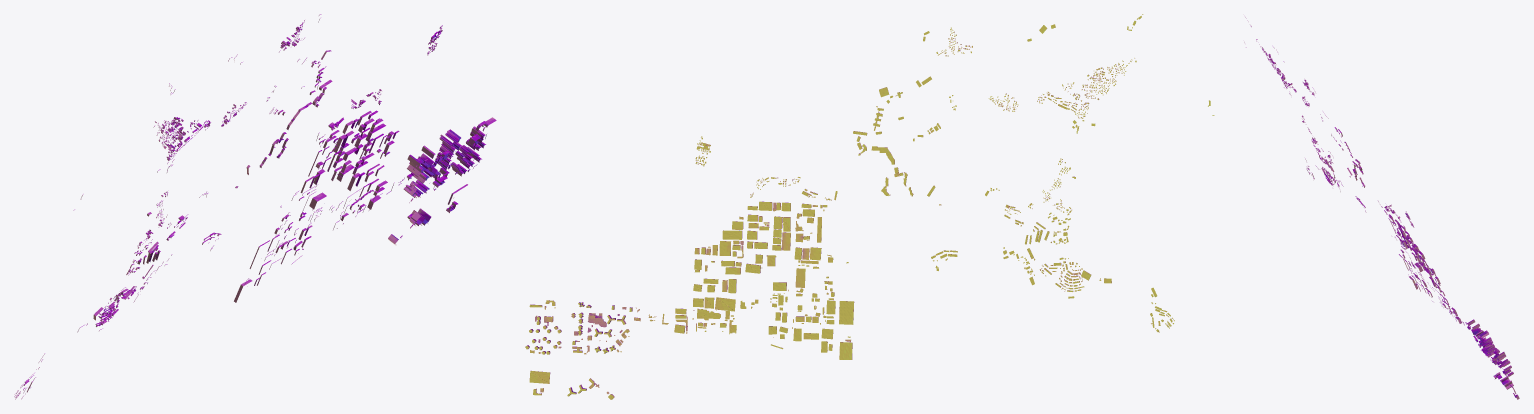
3 views of the same model, side by side, from view 1: azimuth 30°, elevation 25°; view 2: azimuth 150°, elevation 25°; view 3: azimuth 270°, elevation 25° (orthographic). The views are drawn at different scales.
Parts seen in each view (by area): view 1: geometry_0; view 2: geometry_0; view 3: geometry_0.
Part boxes in pixels (bbox=[...]): geometry_0: bbox=[14, 14, 496, 399]; geometry_0: bbox=[525, 14, 1214, 399]; geometry_0: bbox=[1244, 17, 1519, 399].
Size of the model in its own units: 4305 by 2759 by 2847.
